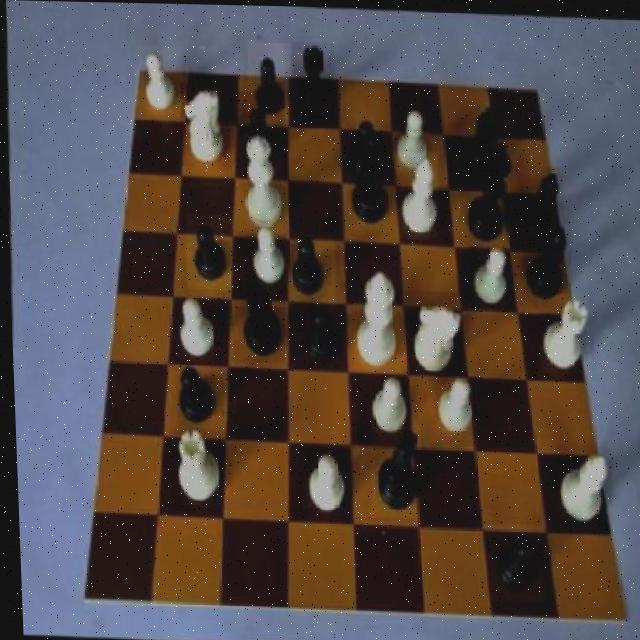bishop: (517, 215, 572, 307), (510, 163, 563, 251)
black-bishop: (458, 134, 518, 244)
black-king: (366, 421, 419, 518), (459, 89, 511, 179)
black-knight: (484, 521, 542, 601), (235, 89, 285, 170), (183, 213, 234, 289), (246, 41, 292, 125), (282, 231, 334, 304), (296, 296, 345, 367), (346, 112, 393, 184), (170, 363, 213, 431)
black-pawn: (340, 126, 396, 230)
black-queen: (229, 279, 284, 361), (291, 40, 336, 119)
black-rook: (550, 440, 610, 534), (393, 148, 438, 238)
white-bishop: (347, 259, 402, 371)
white-king: (400, 290, 467, 382), (179, 82, 231, 167)
white-knight: (353, 366, 409, 448), (424, 366, 479, 446), (291, 445, 349, 517), (465, 236, 511, 312), (134, 45, 183, 116), (242, 221, 286, 293), (389, 102, 431, 176), (173, 287, 218, 355)
white-pawn: (233, 127, 290, 234)
white-queen: (163, 427, 221, 511), (536, 291, 591, 379)
